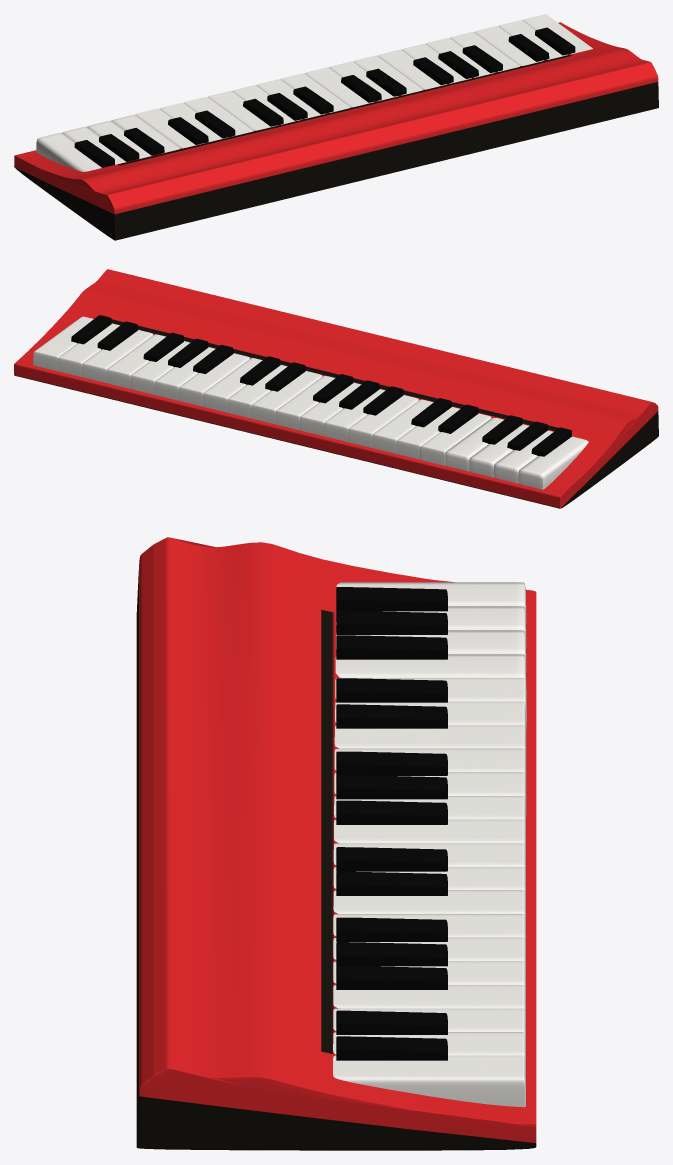
The model's file is keyboard.fbx.
3 renders of one model, top to bottom at view 1: azimuth 30°, elevation 25°; view 2: azimuth 150°, elevation 25°; view 3: azimuth 270°, elevation 25°, orthographic. The views are drawn at different scales.
Parts seen in each view (by area): view 1: Base, Key.032, Key.009, Key.006, Key.013, Key.002, Key.016, Key.014, Key, Key.003, Key.010, Key.007 (+25 smaller); view 2: Base, Key.032, Key.009, Key.006, Key.013, Key.002, Key.016, Key.014, Key, Key.003, Key.010, Key.017 (+25 smaller); view 3: Base, Key, Key.014, Key.010, Key.003, Key.017, Key.007, Key.026, Key.024, Key.029, Key.032, Key.033 (+25 smaller).
Part boxes in pixels (<box>): Base: <box>14,22,658,240</box>; Key.032: <box>36,133,101,171</box>; Key.009: <box>305,67,374,107</box>; Key.006: <box>377,49,446,89</box>; Key.013: <box>208,91,277,130</box>; Key.002: <box>474,26,543,65</box>; Key.016: <box>135,108,204,148</box>; Key.014: <box>184,97,253,136</box>; Key: <box>522,14,592,54</box>; Key.003: <box>450,32,519,71</box>; Key.010: <box>280,73,350,112</box>; Key.007: <box>353,55,423,95</box>; Base: <box>14,269,658,508</box>; Key.032: <box>518,436,588,489</box>; Key.009: <box>251,371,322,424</box>; Key.006: <box>178,353,249,406</box>; Key.013: <box>348,395,418,447</box>; Key.002: <box>82,330,152,382</box>; Key.016: <box>420,413,491,465</box>; Key.014: <box>372,399,433,453</box>; Key: <box>33,316,93,371</box>; Key.003: <box>106,334,165,388</box>; Key.010: <box>275,375,335,430</box>; Key.017: <box>445,418,503,471</box>; Base: <box>136,537,536,1150</box>; Key: <box>333,1055,525,1107</box>; Key.014: <box>334,725,526,768</box>; Key.010: <box>334,819,525,854</box>; Key.003: <box>333,985,525,1019</box>; Key.017: <box>335,654,526,683</box>; Key.007: <box>333,890,525,925</box>; Key.026: <box>336,775,447,799</box>; Key.024: <box>336,847,447,871</box>; Key.029: <box>336,678,447,702</box>; Key.032: <box>336,582,526,623</box>; Key.033: <box>336,635,447,659</box>.
Size of the model in its own units: 477 by 34.28 by 151.
Materials: 37 (37 with a texture image).
